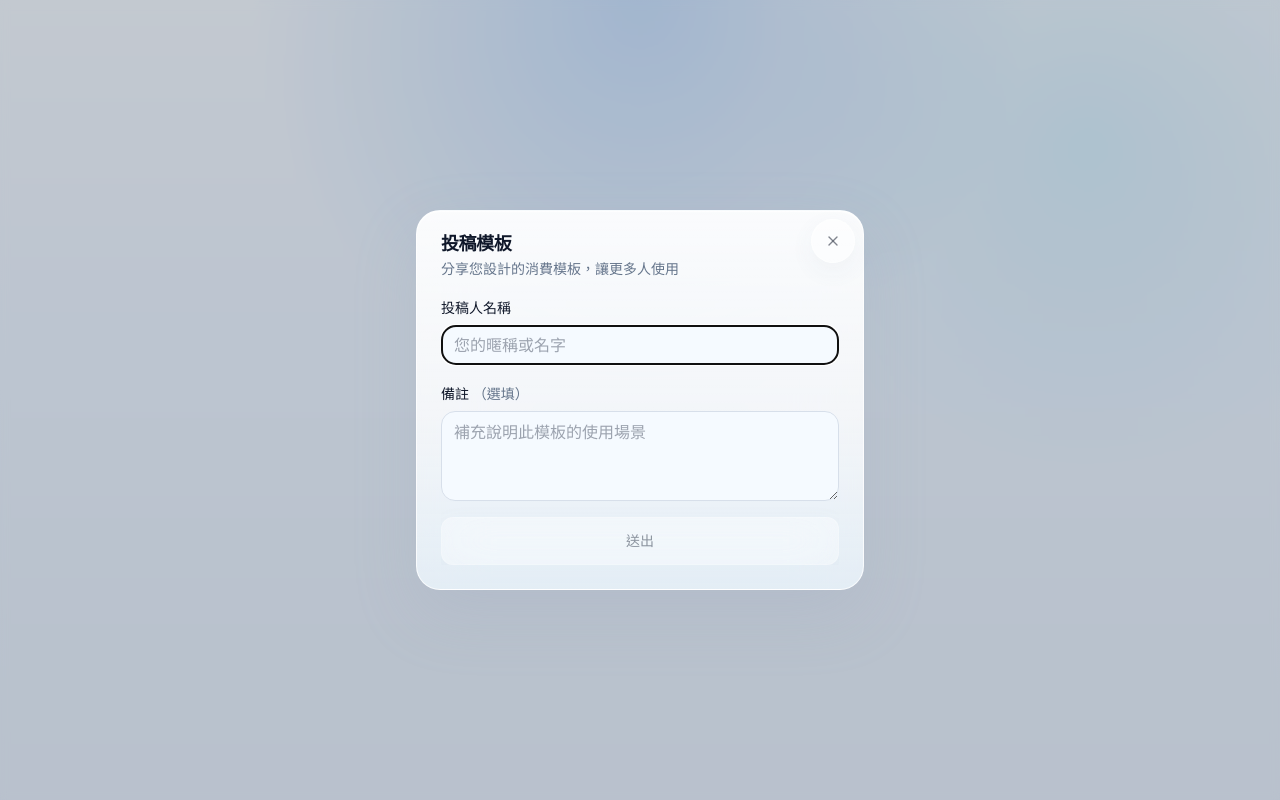
Test case: TemplateSubmitModal › 錯誤處理 › 429 → 顯示限流提示
In the field labelled "投稿人名稱": point(640, 345) x1=441 y1=325 x2=839 y2=365, type "小明"
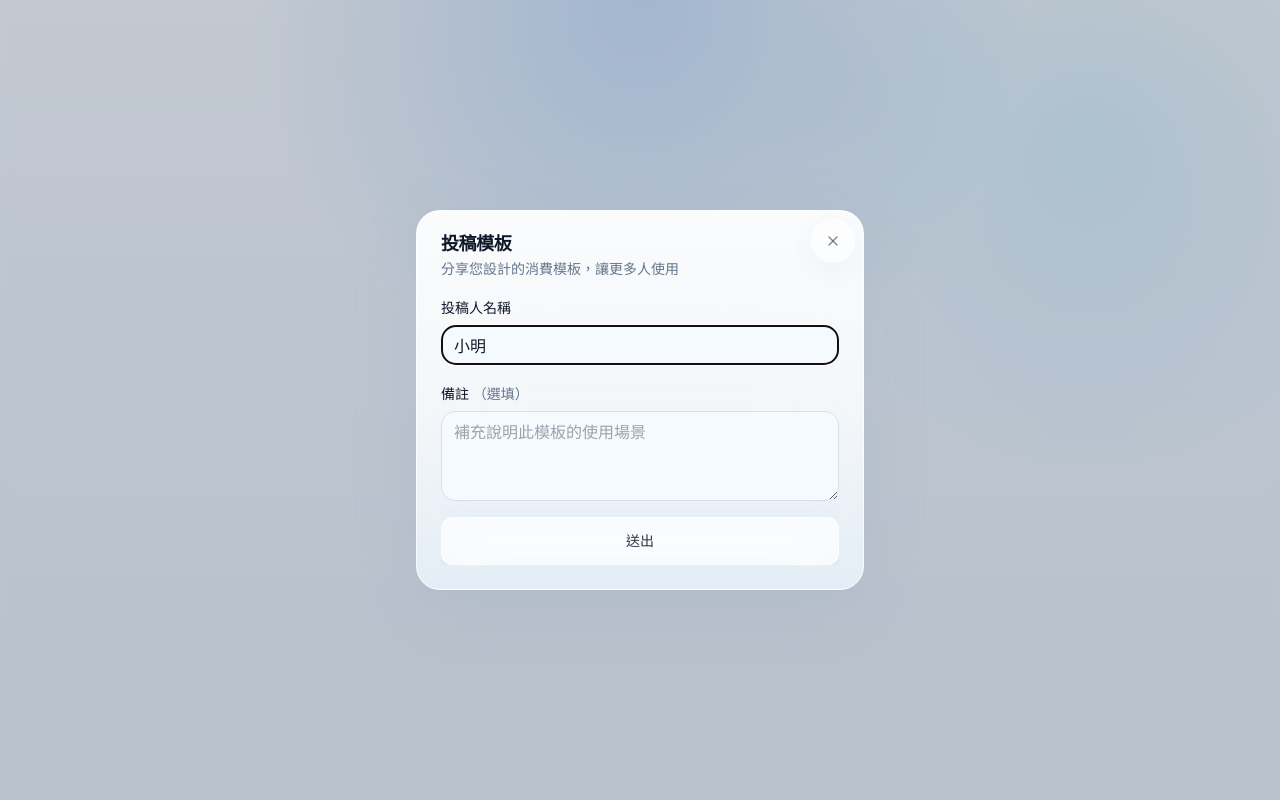
Click the button "送出": point(640, 541) x1=441 y1=517 x2=839 y2=565
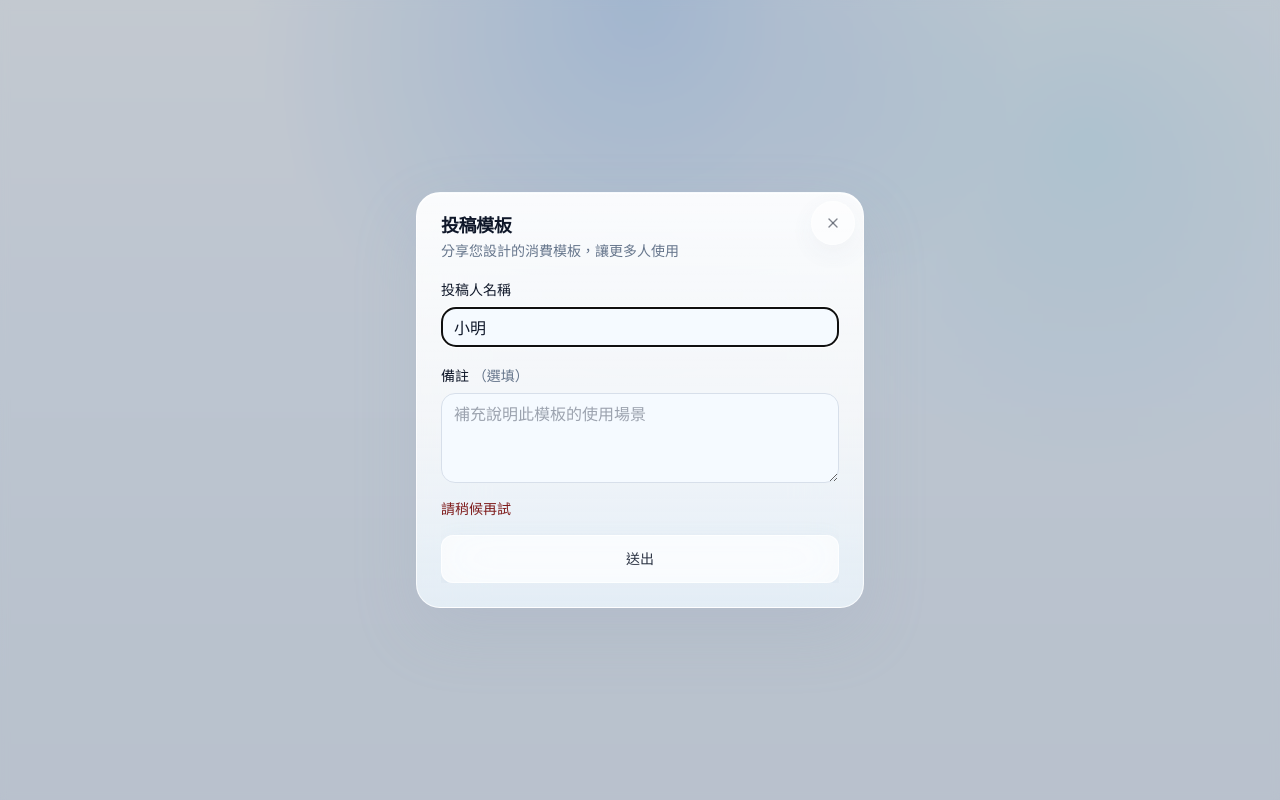
Check: the text "請稍候再試" is shown, box x1=441 y1=500 x2=511 y2=517
